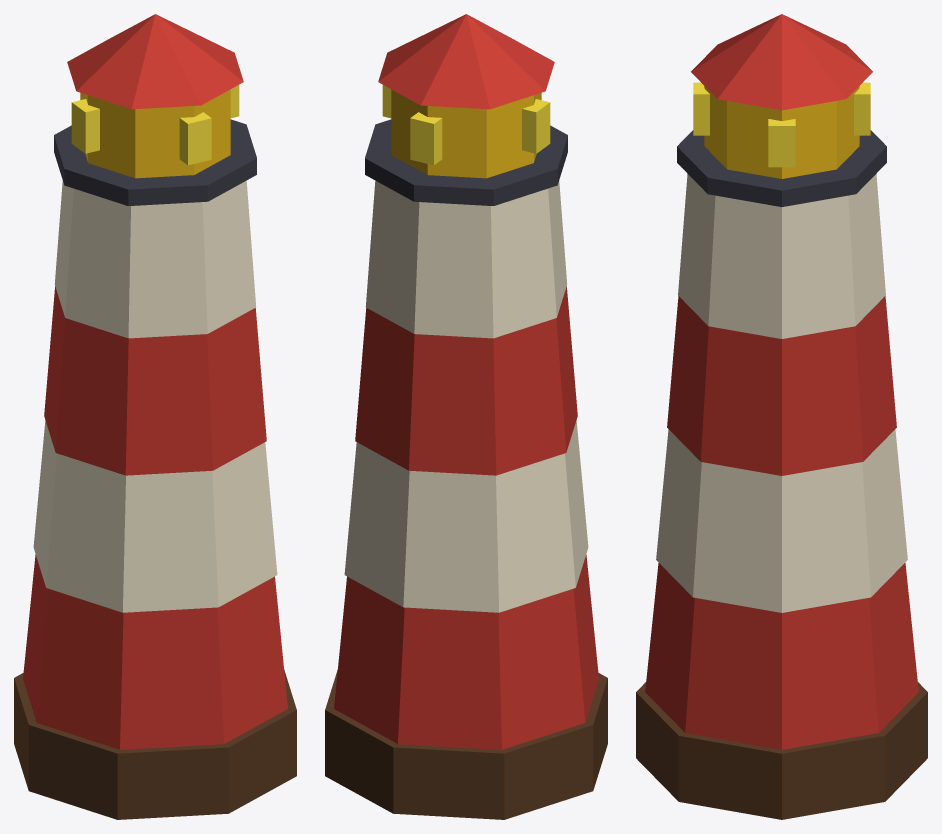
The model's file is env_r13_lighthouse.glb.
The picture shows the model from 3 angles, left to right: view 1: azimuth 30°, elevation 25°; view 2: azimuth 150°, elevation 25°; view 3: azimuth 270°, elevation 25°; orthographic projection.
Parts seen in each view (by area): view 1: env_r13_lighthouse; view 2: env_r13_lighthouse; view 3: env_r13_lighthouse.
Boxes of the visible parts, x1,y1,x2,y2 form: env_r13_lighthouse: (14,14,296,819); env_r13_lighthouse: (325,14,607,819); env_r13_lighthouse: (636,14,927,819).
Bounding box in the file's own units: 3.2 × 9 × 3.2.
Materials: 1 (1 with a texture image).
